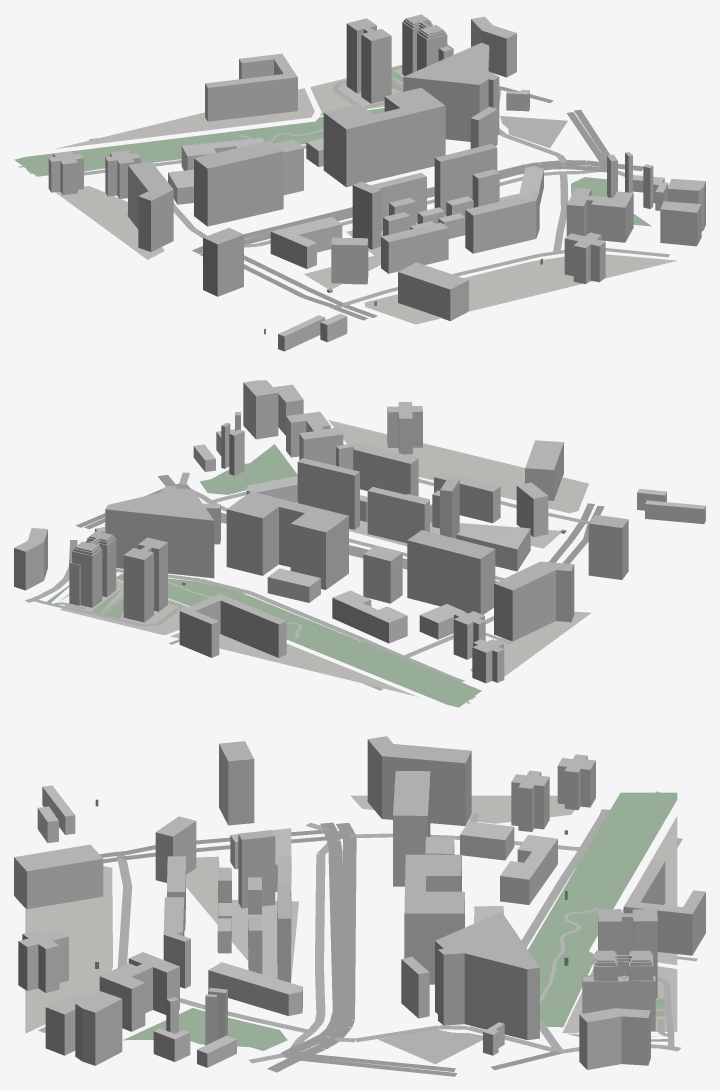
3 views of the same model, one above another, from view 1: azimuth 30°, elevation 25°; view 2: azimuth 150°, elevation 25°; view 3: azimuth 270°, elevation 25° (orthographic). The views are drawn at different scales.
Bounding box in the file's own units: 521 × 70.32 × 531.
